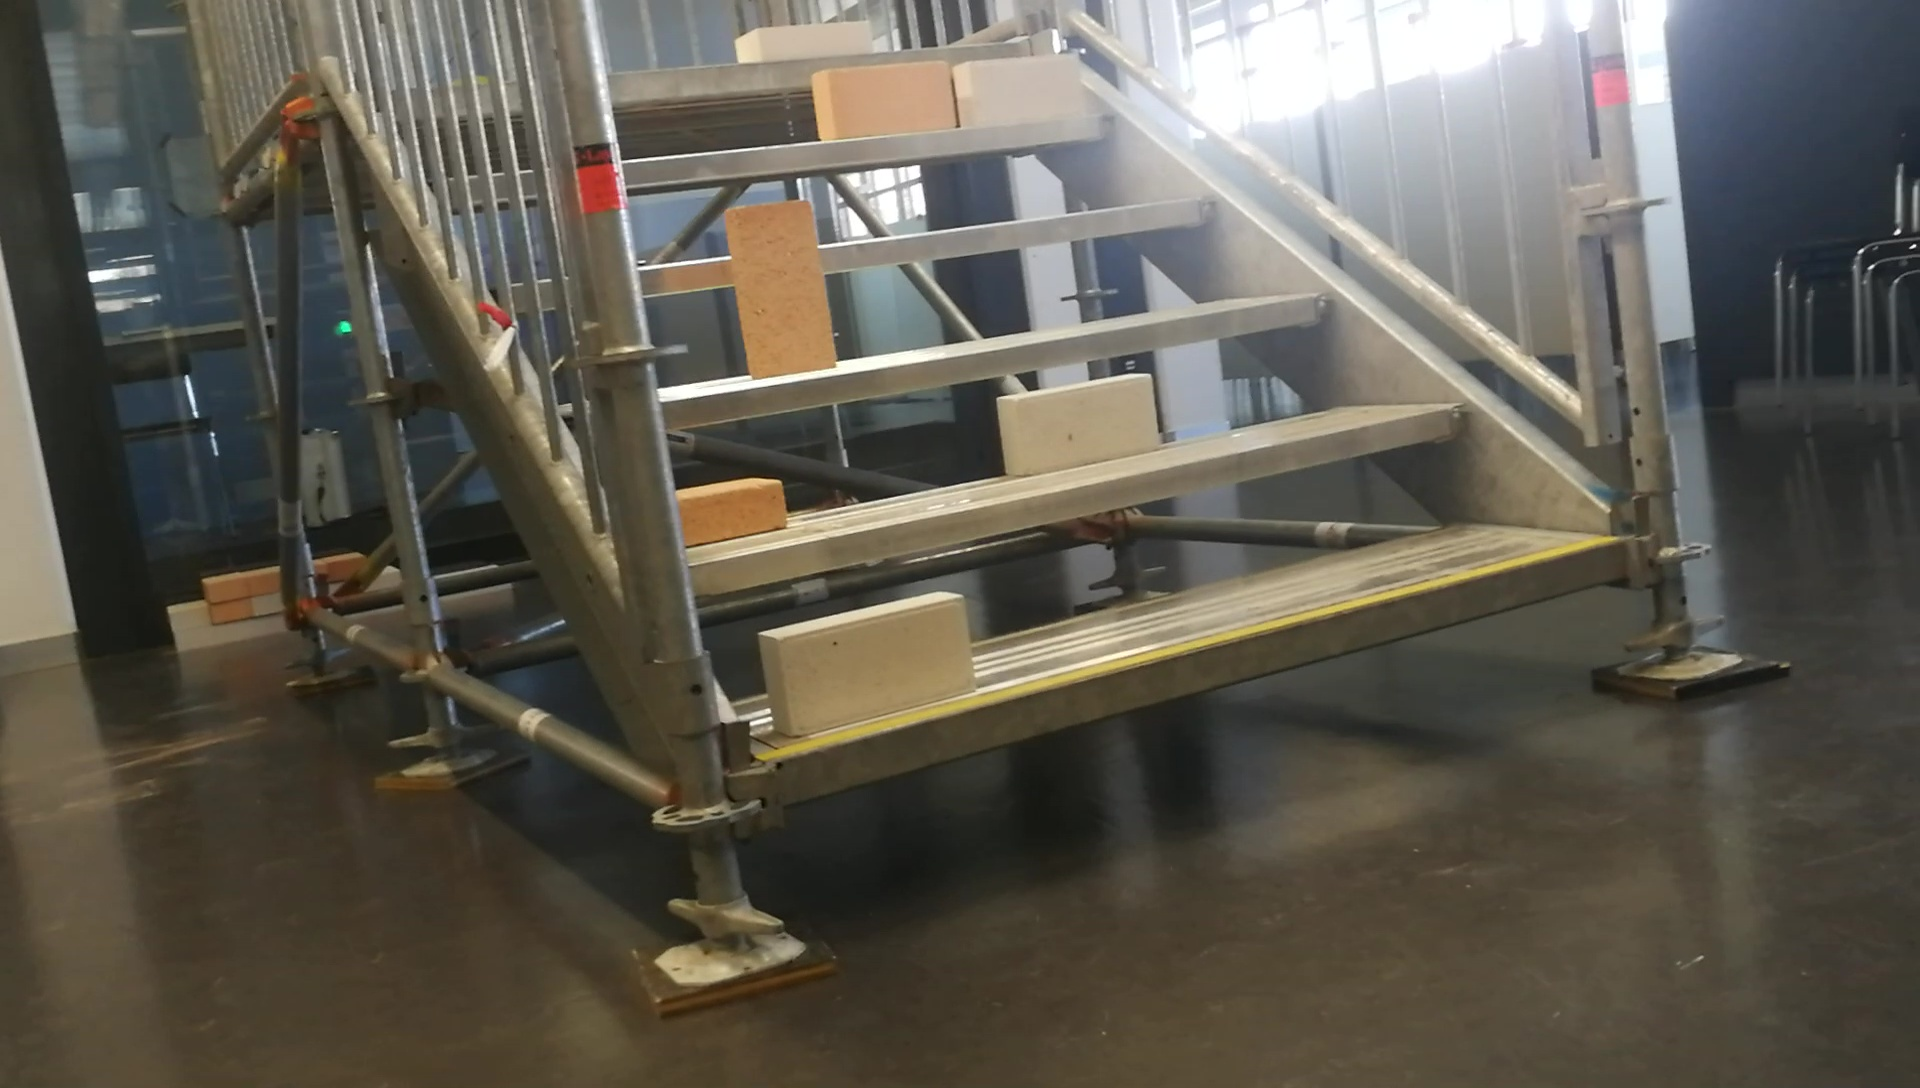brick: (762, 591, 971, 731), (728, 198, 837, 377), (997, 373, 1155, 475), (814, 61, 951, 137), (955, 55, 1083, 127), (673, 477, 787, 543), (735, 22, 874, 59)
edge: (779, 542, 1622, 807), (688, 402, 1458, 593), (665, 293, 1329, 430), (637, 195, 1209, 299), (622, 119, 1113, 185), (603, 44, 1065, 94)
stairs: (547, 5, 1788, 1015)
steps: (589, 11, 1633, 822)
